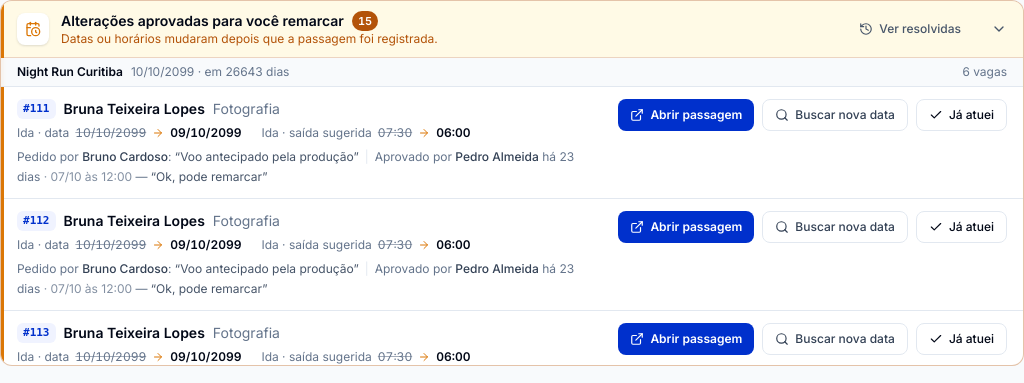
Test: BlocoDeAvisos (passagem) › vários avisos: agrupa por prova (a mais próxima primeiro), mostra o total e recolhe sem perder a contagem
The image size is (1024, 383).
Expected: the text with test id "avisos-contagem" reads "15", [358,14,372,28]
Recolhido: o detalhe some, a pendência não.
Click the button named "Recolher as alterações" at (999, 29), box [983,13,1015,45]
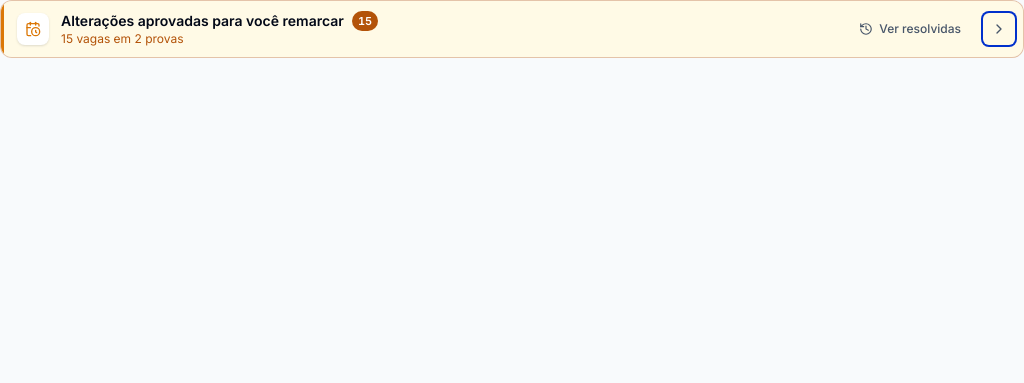
Now the element "Alterações aprovadas" shows "15 vagas em 2 provas", box [61,31,184,46]
Now the button named "Mostrar as alterações" is collapsed, box [983,13,1015,45]
